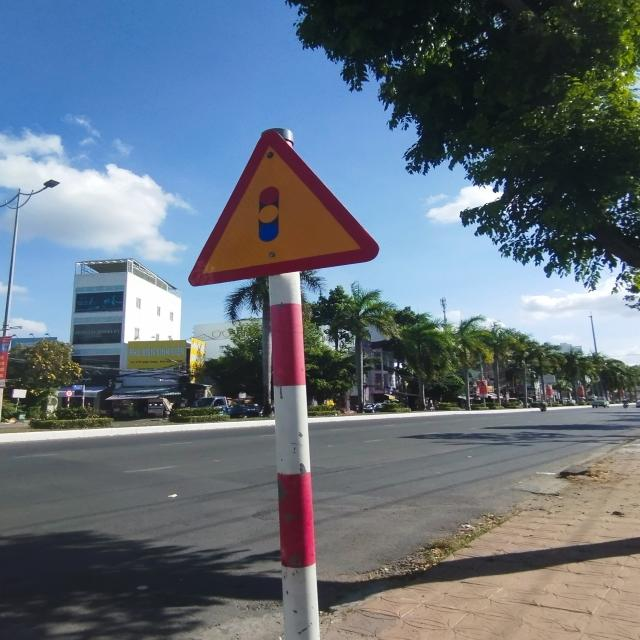Duong_Co_Go_Giam_Toc: (188, 129, 382, 287)
